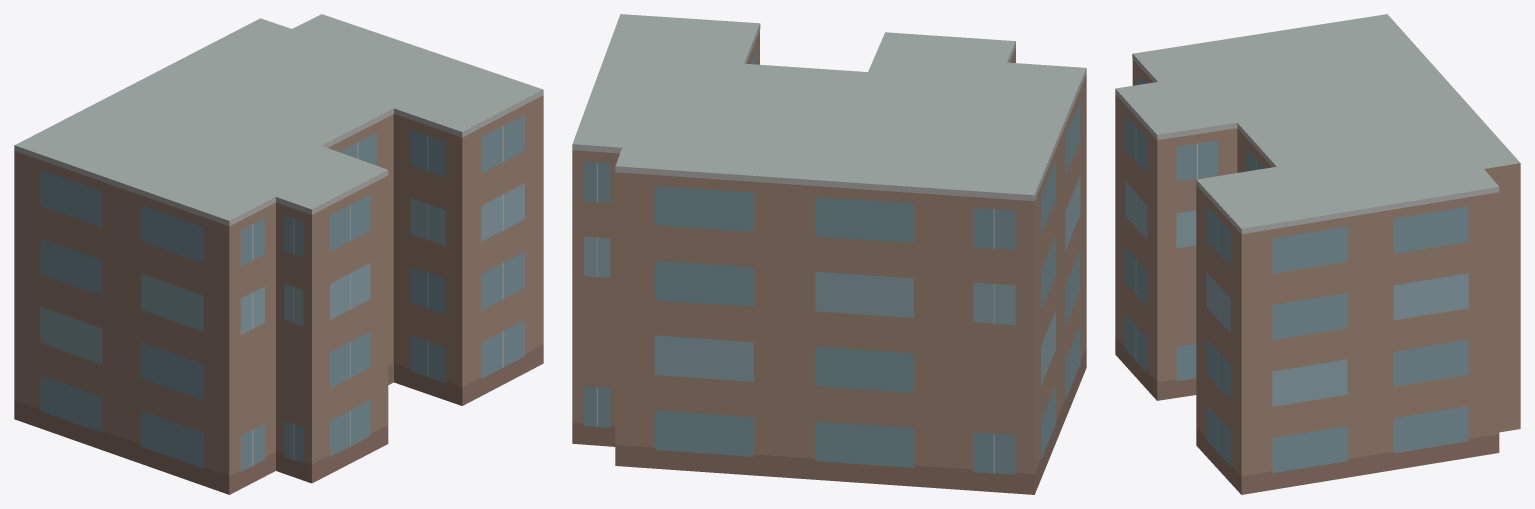
File: survey-upis-32865225.glb
3 renders of one model, left to right at view 1: azimuth 30°, elevation 25°; view 2: azimuth 150°, elevation 25°; view 3: azimuth 270°, elevation 25°, orthographic. The views are drawn at different scales.
Parts seen in each view (by area): view 1: survey-upis-32865225.tmp; view 2: survey-upis-32865225.tmp; view 3: survey-upis-32865225.tmp.
Part boxes in pixels (left/top/right/bottom): survey-upis-32865225.tmp: left=14, top=14, right=543, bottom=494; survey-upis-32865225.tmp: left=572, top=14, right=1086, bottom=494; survey-upis-32865225.tmp: left=1115, top=14, right=1520, bottom=494.
Size of the model in its own units: 21.16 by 12.2 by 16.87.
